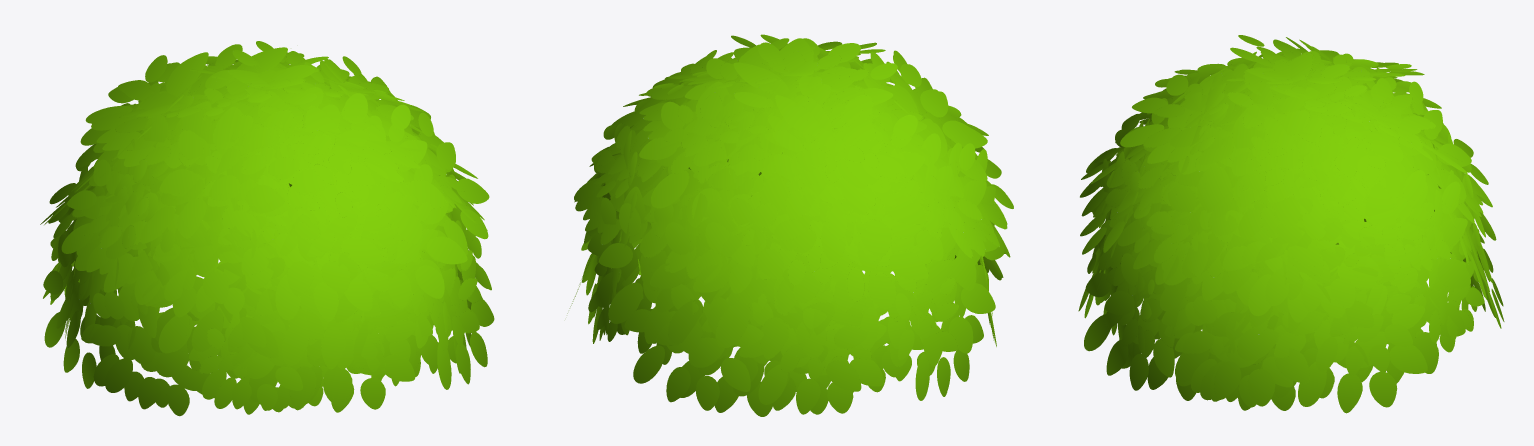
Rendered from Bush.gltf.
The picture shows the model from 3 angles, left to right: view 1: azimuth 30°, elevation 25°; view 2: azimuth 150°, elevation 25°; view 3: azimuth 270°, elevation 25°; orthographic projection. The views are drawn at different scales.
Parts seen in each view (by area): view 1: Bush; view 2: Bush; view 3: Bush.
Part boxes in pixels (bbox=[...]): Bush: bbox=[40, 41, 494, 416]; Bush: bbox=[567, 34, 1013, 416]; Bush: bbox=[1078, 35, 1504, 413].
Bounding box in the file's own units: 1.09 × 0.6916 × 1.05.
1 material, 1 textured.
